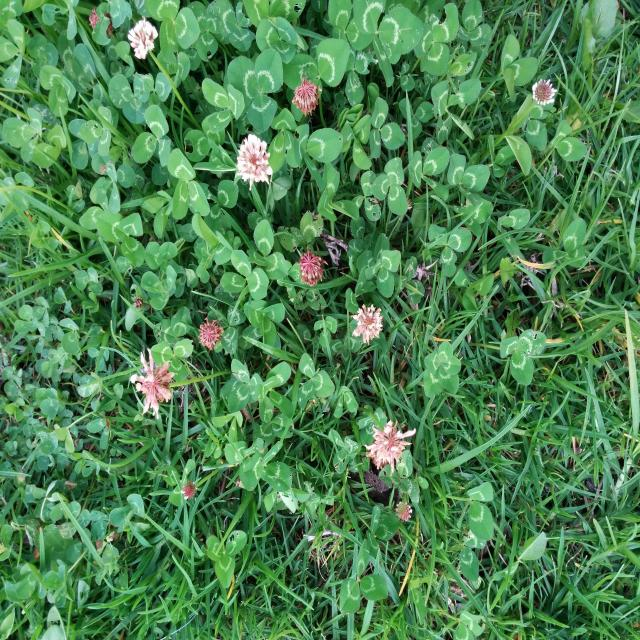Four Leaf Clover: (423, 341, 461, 398)
